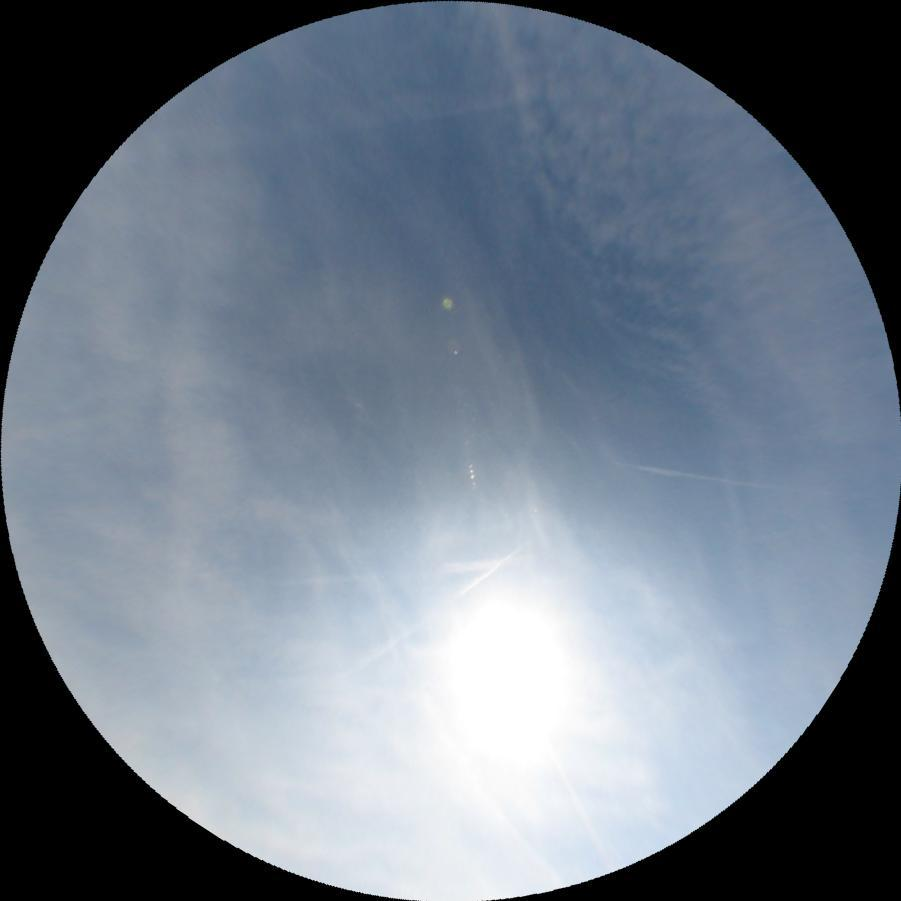contrail old: (352, 545, 523, 675), (617, 461, 772, 490)
contrail veryold: (159, 72, 517, 164), (275, 556, 505, 589)
parasite: (533, 724, 614, 870)
sun: (438, 585, 595, 733)
